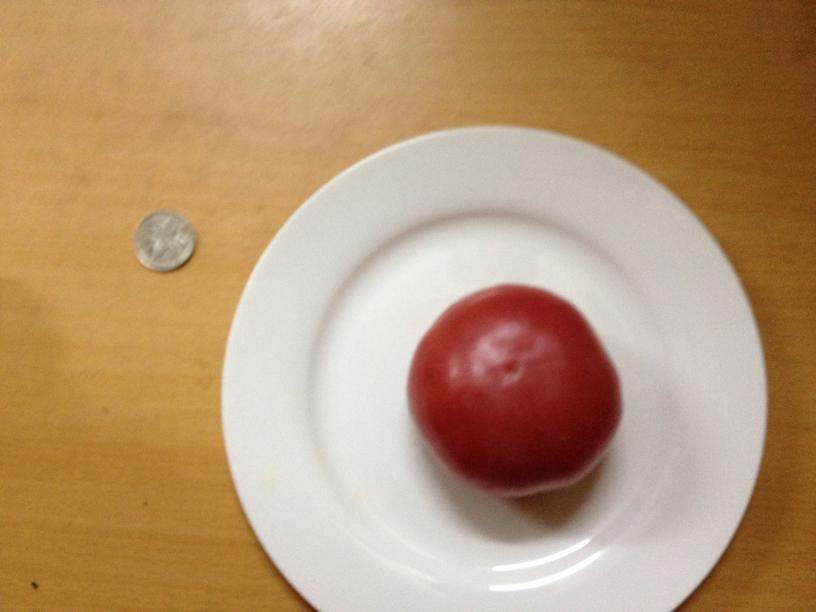coin: (130, 211, 197, 270)
tomato: (406, 279, 624, 502)
